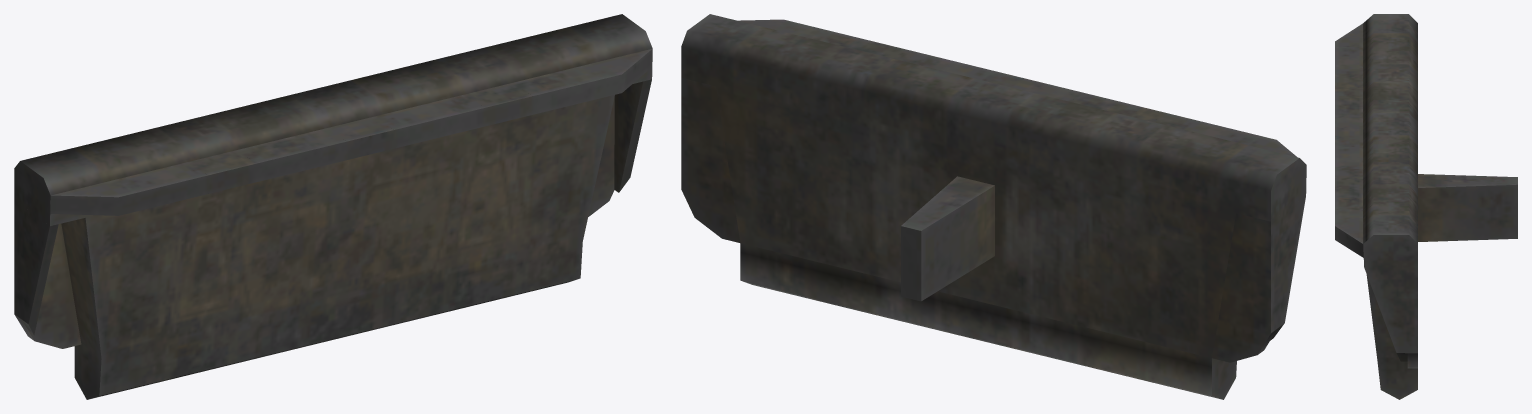
The picture shows the model from 3 angles, left to right: view 1: azimuth 30°, elevation 25°; view 2: azimuth 150°, elevation 25°; view 3: azimuth 270°, elevation 25°; orthographic projection. The views are drawn at different scales.
Parts seen in each view (by area): view 1: set_0_group_0; view 2: set_0_group_0; view 3: set_0_group_0.
Part boxes in pixels (box(x1,y1,x2,y2)): set_0_group_0: box(14, 14, 652, 399); set_0_group_0: box(681, 14, 1306, 399); set_0_group_0: box(1335, 14, 1517, 399).
Size of the model in its own units: 0.379 by 0.1499 by 0.1326.
Materials: 1 (1 with a texture image).
